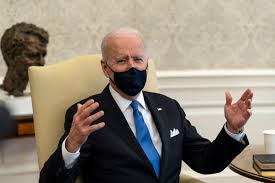with_mask: (100, 51, 152, 97)
